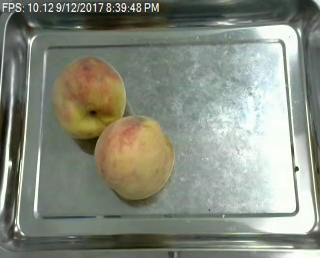Peach: (94, 117, 174, 201), (51, 54, 127, 139)
